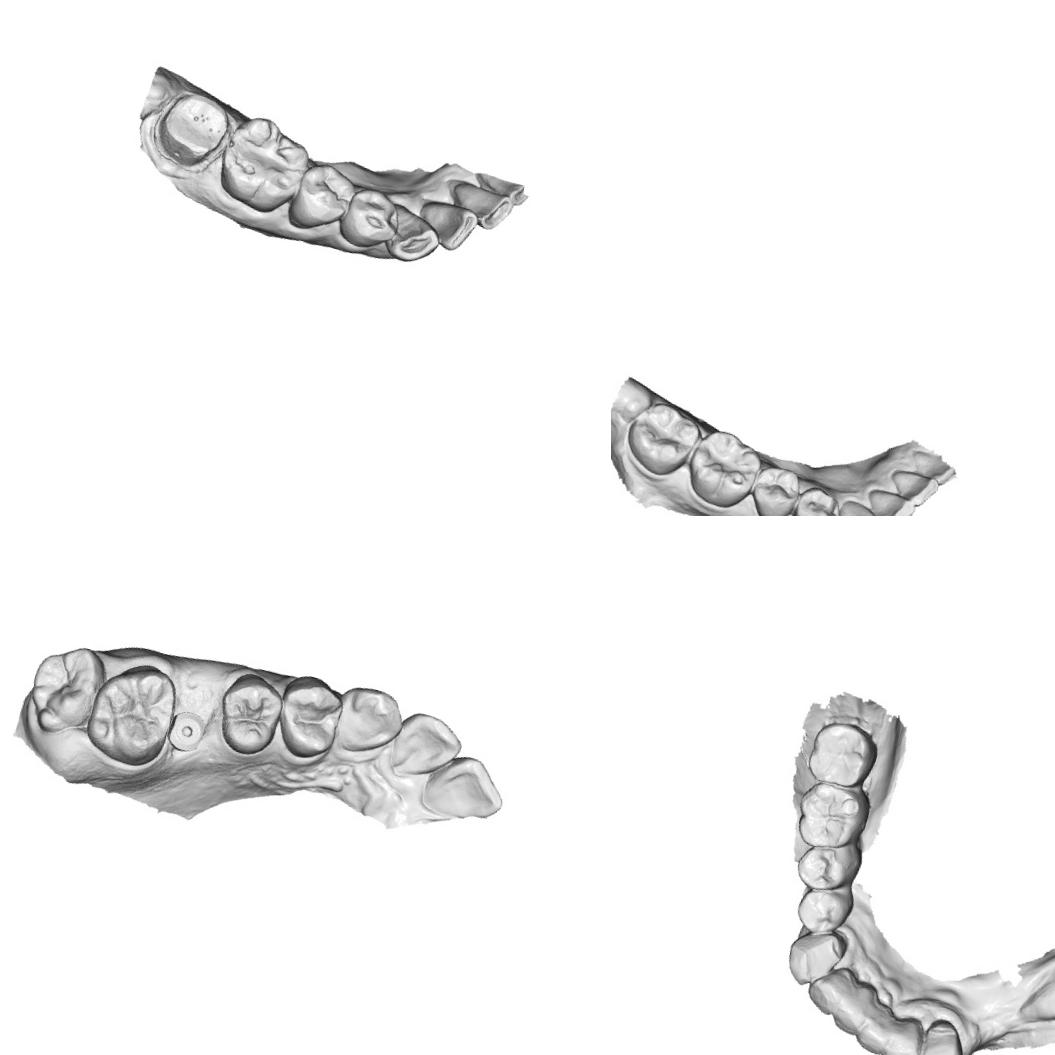canine: (324, 678, 409, 763), (780, 920, 850, 994), (379, 199, 446, 268), (910, 1012, 972, 1055), (830, 495, 886, 516)
crown: (141, 78, 241, 180)
implant: (164, 708, 208, 754)
incisor: (416, 746, 512, 832), (385, 704, 468, 784), (443, 178, 517, 236), (410, 196, 481, 256), (800, 958, 859, 1022), (826, 974, 883, 1040), (851, 997, 901, 1055), (882, 464, 940, 512), (902, 446, 960, 488), (878, 1010, 930, 1055), (857, 485, 919, 516)
molar: (207, 106, 314, 222), (78, 652, 182, 770), (16, 632, 112, 744), (678, 421, 769, 516), (616, 392, 706, 484), (788, 773, 876, 859), (801, 714, 885, 796)
premolar: (267, 667, 349, 764), (209, 668, 291, 762), (286, 156, 358, 239), (334, 181, 404, 256), (790, 832, 866, 900), (790, 872, 859, 940), (744, 460, 805, 516), (784, 479, 847, 516)
